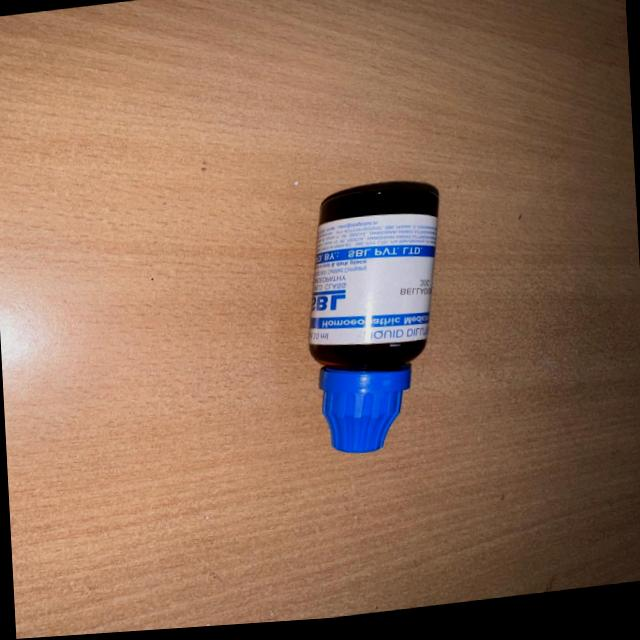medicine: (290, 187, 461, 463)
